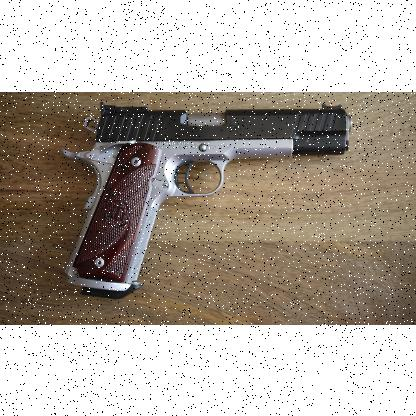gun: (60, 101, 352, 298)
